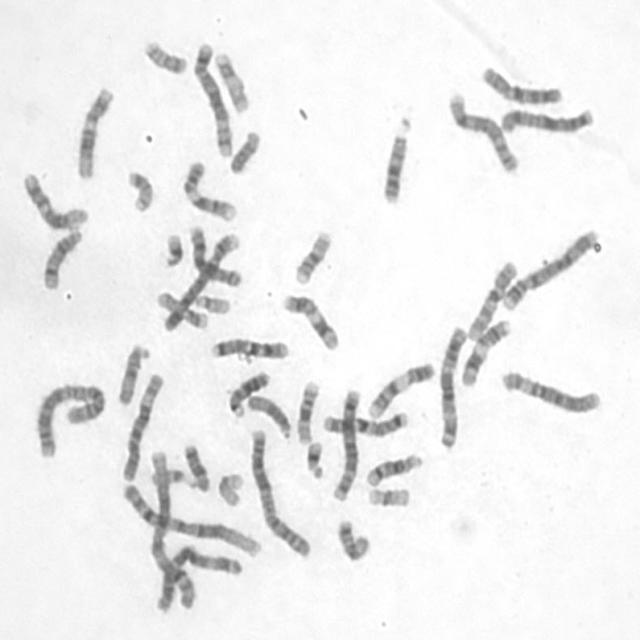A1: (116, 477, 265, 559), (144, 444, 198, 610)
A2: (244, 422, 313, 559), (29, 376, 108, 460)
A3: (148, 539, 245, 614), (433, 319, 469, 450)
B4: (496, 221, 600, 312), (157, 225, 242, 333)
B5: (188, 35, 235, 158), (327, 382, 362, 504)
C10: (462, 253, 519, 342), (476, 59, 565, 106)
C11: (456, 312, 512, 388), (277, 286, 341, 352)
C12: (17, 165, 90, 231), (70, 80, 115, 180)
C6: (496, 362, 604, 416), (116, 366, 165, 483)
C7: (316, 404, 410, 438), (205, 331, 291, 360)
C8: (442, 85, 522, 175), (184, 219, 244, 288)
C9: (362, 355, 437, 420), (176, 153, 239, 223)
D13: (377, 108, 414, 205), (222, 364, 272, 419)
D14: (37, 220, 84, 292), (360, 446, 424, 488)
D15: (112, 338, 152, 407), (242, 388, 294, 439)
E16: (289, 224, 334, 286), (291, 373, 321, 446)
E17: (209, 45, 251, 115), (150, 284, 211, 329)
E18: (331, 512, 372, 563), (178, 436, 212, 494)
F19: (362, 479, 412, 509), (212, 466, 246, 508)
F20: (139, 33, 189, 76), (122, 163, 156, 214)
G21: (300, 434, 327, 481), (159, 226, 185, 268)
G22: (144, 461, 207, 490), (190, 287, 232, 316)
X: (494, 101, 596, 136)
Y: (225, 124, 262, 175)
